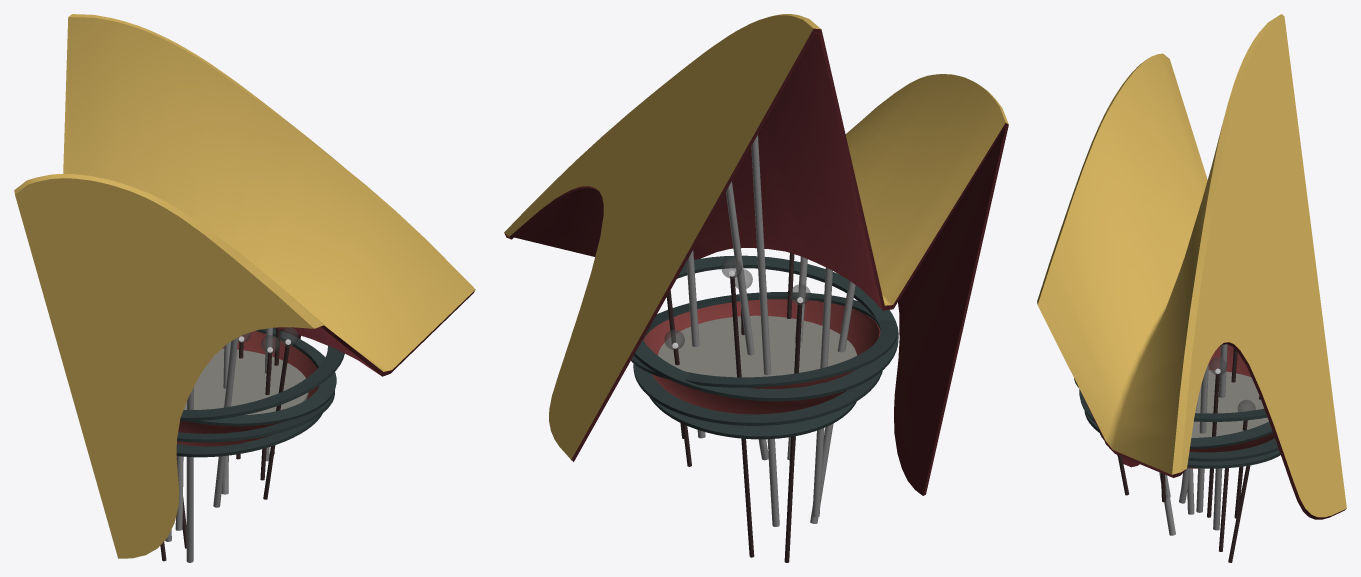
The model's file is brave_eagles.glb.
3 renders of one model, left to right at view 1: azimuth 30°, elevation 25°; view 2: azimuth 150°, elevation 25°; view 3: azimuth 270°, elevation 25°, orthographic. The views are drawn at different scales.
Visible parts, largest first — view 1: Group004, Shape001, Cylinder020, Line011, Sphere001, Line019; view 2: Group004, Shape001, Line019, Cylinder020, Sphere001, Line011; view 3: Group004, Shape001, Line011, Cylinder020, Line019, Sphere001.
Part boxes in pixels (x1,y1,x2,y2): Group004: (14,14,475,558); Shape001: (176,327,344,457); Cylinder020: (183,348,308,415); Line011: (213,327,298,507); Sphere001: (177,331,319,446); Line019: (160,387,193,562); Group004: (504,14,1008,495); Shape001: (631,255,898,439); Line019: (721,135,855,562); Cylinder020: (658,315,856,377); Sphere001: (643,299,880,414); Line011: (664,181,807,466); Group004: (1037,14,1346,519); Shape001: (1074,378,1280,468); Line011: (1117,357,1255,518); Cylinder020: (1191,370,1268,437); Line019: (1159,344,1260,562); Sphere001: (1187,344,1274,468).
Bounding box in the file's own units: 17.67 × 19.52 × 10.78.
